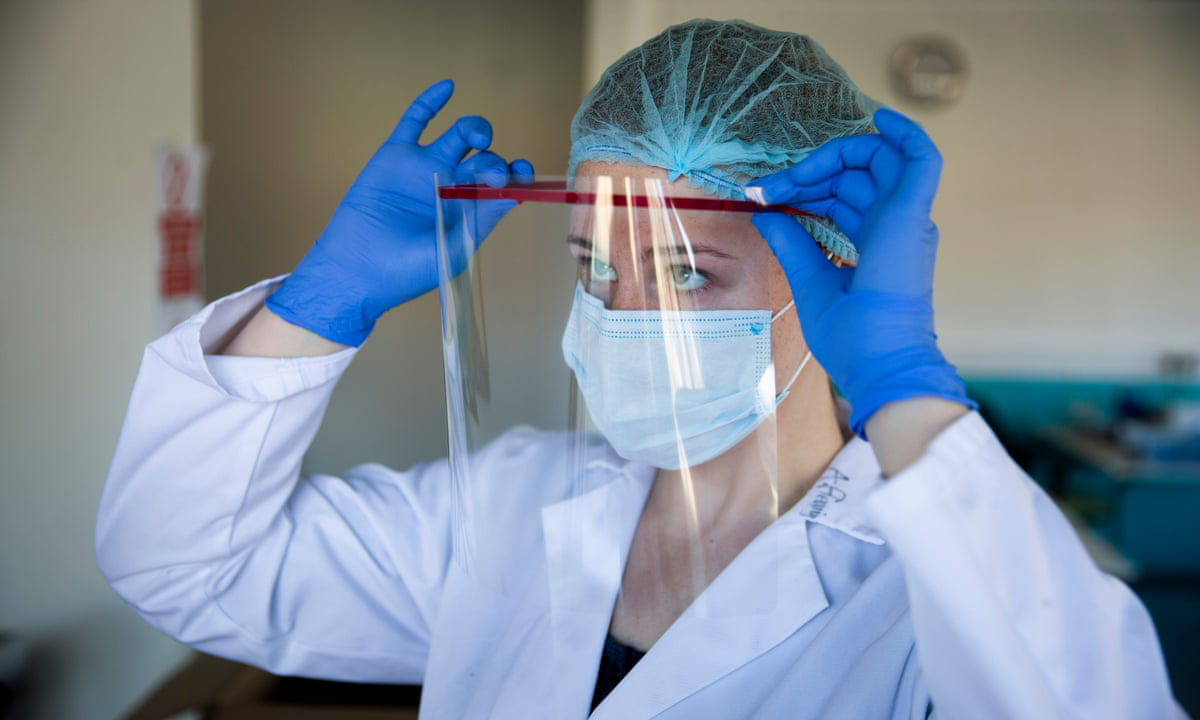Face_Shield: (435, 155, 819, 667)
Gloves: (743, 105, 975, 437), (263, 72, 536, 353)
with_mask: (546, 244, 795, 476)
